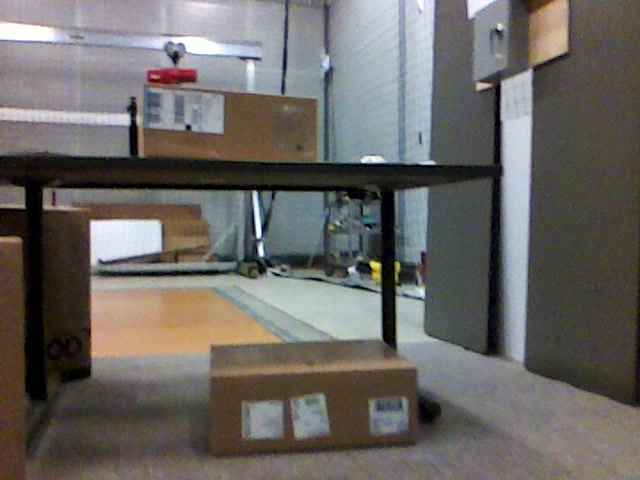box: (210, 341, 420, 455), (135, 85, 321, 162), (1, 238, 25, 480)
